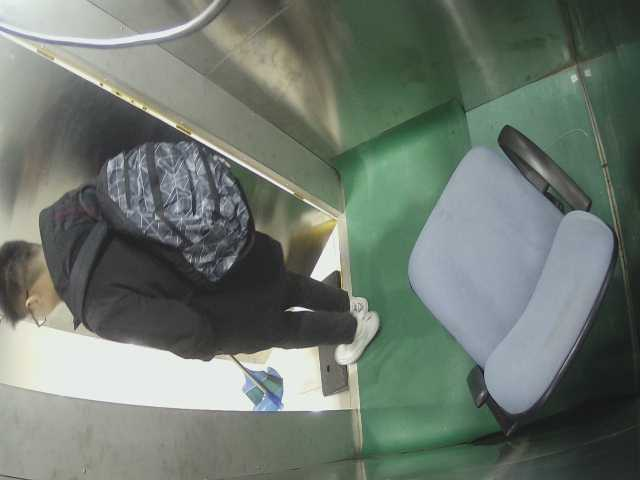bag: (85, 130, 265, 287)
chair: (390, 119, 620, 439)
person: (6, 161, 385, 364)
